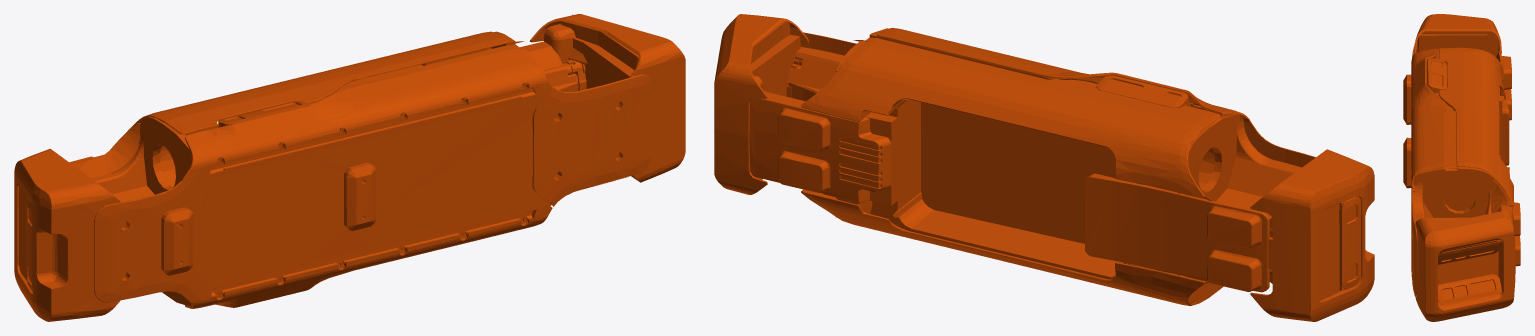
3 views of the same model, side by side, from view 1: azimuth 30°, elevation 25°; view 2: azimuth 150°, elevation 25°; view 3: azimuth 270°, elevation 25° (orthographic). The views are drawn at different scales.
Visible parts, largest first — view 1: body_02-042137-001-A00_TOP_LEVEL_DEFEATURED_-_NOT_FOR_PRODUCTION; view 2: body_02-042137-001-A00_TOP_LEVEL_DEFEATURED_-_NOT_FOR_PRODUCTION; view 3: body_02-042137-001-A00_TOP_LEVEL_DEFEATURED_-_NOT_FOR_PRODUCTION.
Boxes of the visible parts, <box> form: body_02-042137-001-A00_TOP_LEVEL_DEFEATURED_-_NOT_FOR_PRODUCTION: <box>14,14,685,321</box>; body_02-042137-001-A00_TOP_LEVEL_DEFEATURED_-_NOT_FOR_PRODUCTION: <box>714,14,1374,321</box>; body_02-042137-001-A00_TOP_LEVEL_DEFEATURED_-_NOT_FOR_PRODUCTION: <box>1403,14,1520,321</box>.
Bounding box in the file's own units: 0.8724 × 0.2392 × 0.1947.
